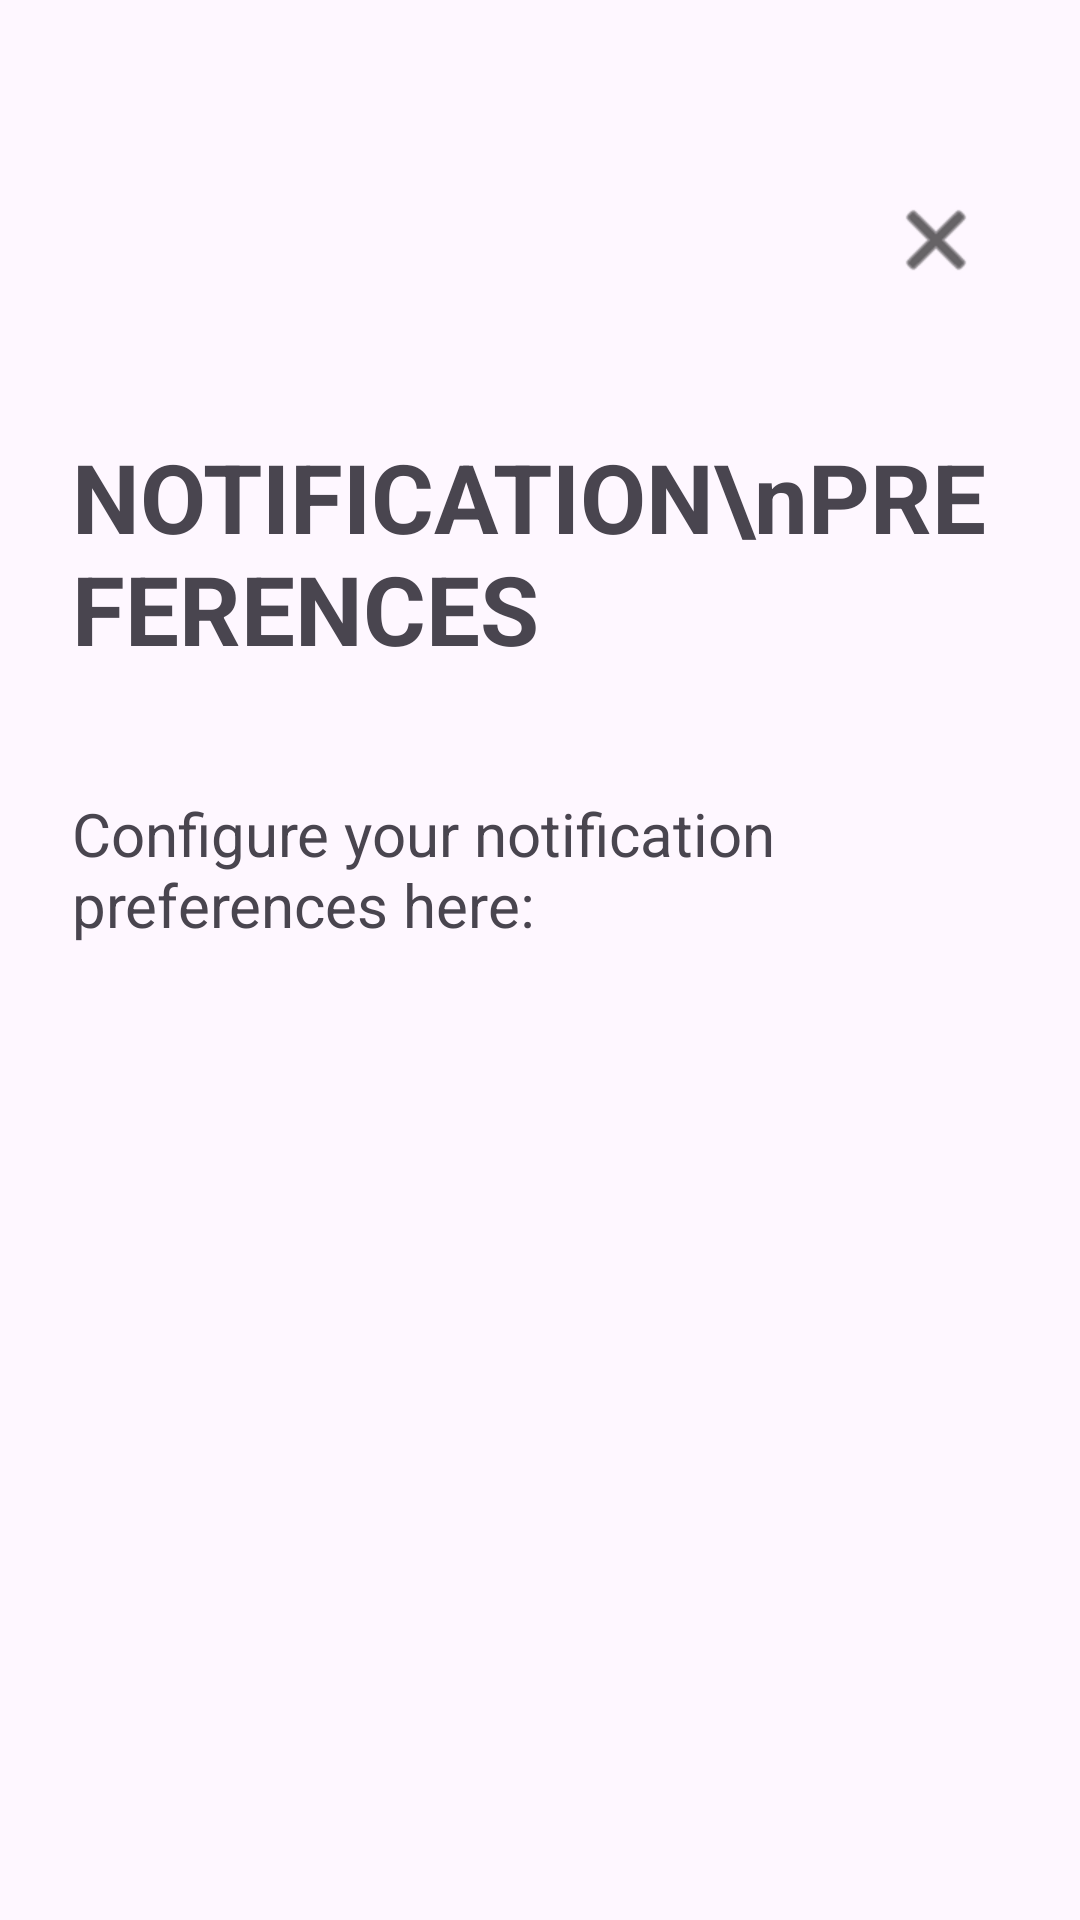

Icon bounding boxes for this 1080x1920 phone screenshot, format {"x1": x1, "y1": y1, "x2": x2, "y2": y2}:
Close: {"x1": 906, "y1": 210, "x2": 966, "y2": 270}
